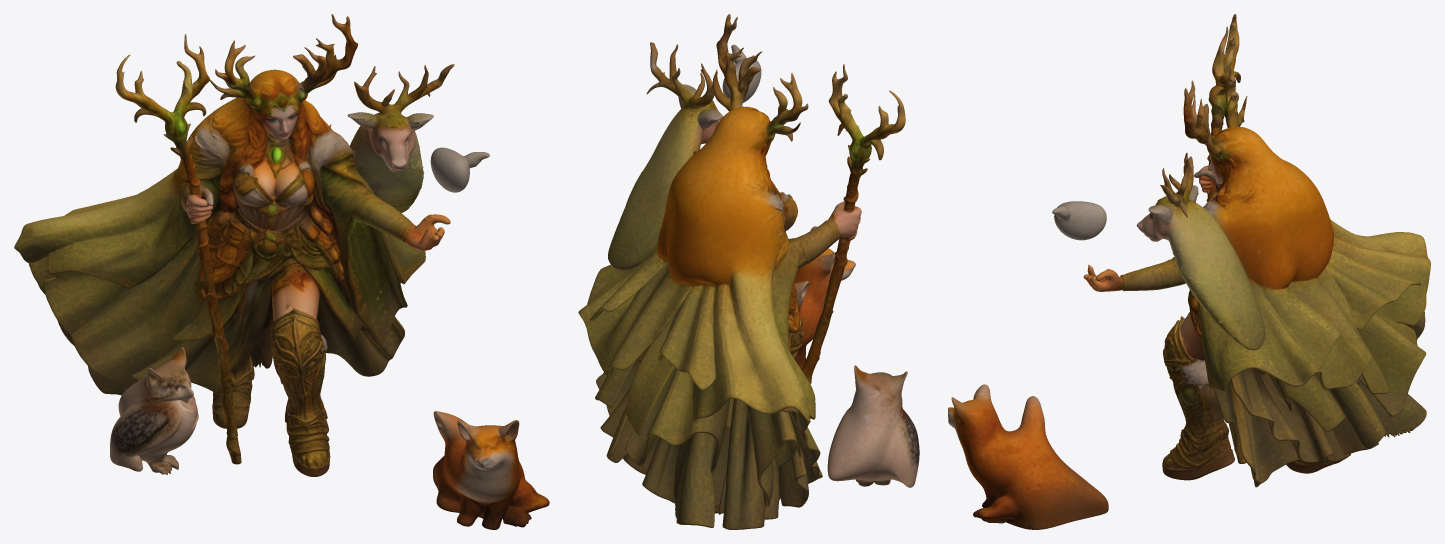
File: dwarf_druid_full_female_01.glb
3 views of the same model, side by side, from view 1: azimuth 30°, elevation 25°; view 2: azimuth 150°, elevation 25°; view 3: azimuth 270°, elevation 25° (orthographic). The views are drawn at different scales.
Parts seen in each view (by area): view 1: material; view 2: material; view 3: material.
Boxes of the visible parts, <box> form: material: <box>14,14,549,529</box>; material: <box>578,14,919,529</box>; material: <box>948,14,1430,529</box>.
Bounding box in the file's own units: 0.598 × 0.8279 × 0.8791.
Materials: 1 (1 with a texture image).
